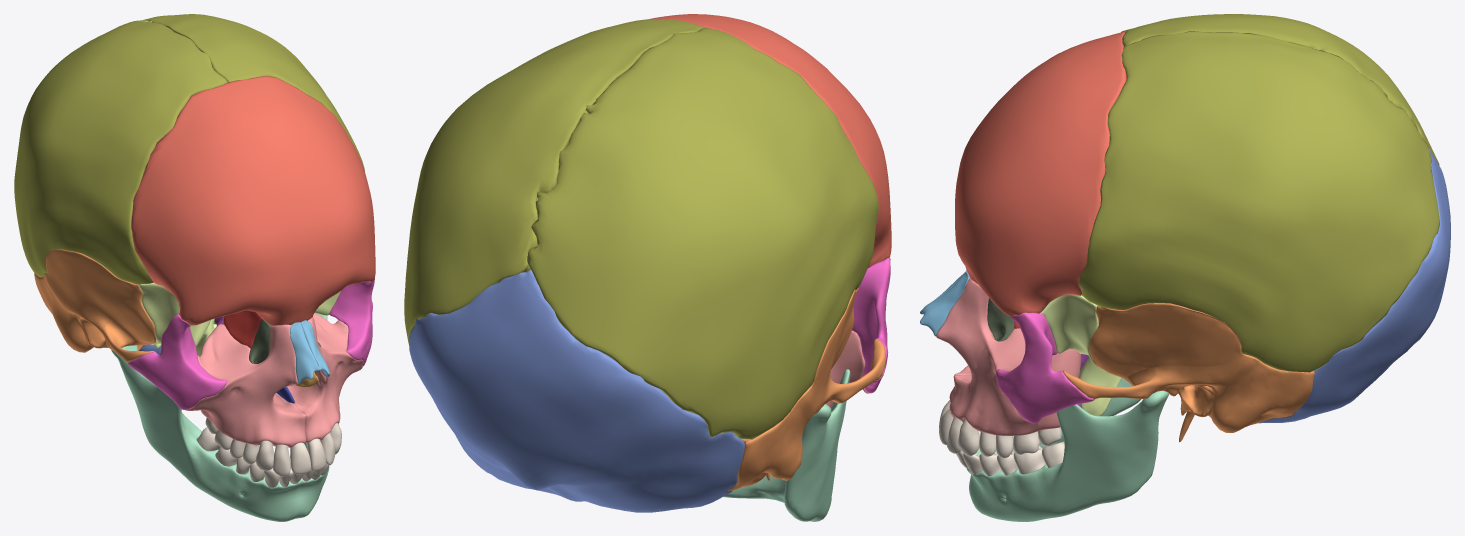
Rendered from overview-colored-skull.glb.
3 views of the same model, side by side, from view 1: azimuth 30°, elevation 25°; view 2: azimuth 150°, elevation 25°; view 3: azimuth 270°, elevation 25° (orthographic). The views are drawn at different scales.
Visible parts, largest first — view 1: Frontal bone, Parietal bone.r, Maxilla bone.r, Mandible bone, Temporal bone.r, Parietal bone.l, Maxilla bone.l, Zygomatic bone.r, Zygomatic bone.l, Sphenoid bone, Nasal bone.r, Ethmoid Bone (+6 smaller); view 2: Parietal bone.r, Occipital bone, Parietal bone.l, Frontal bone, Temporal bone.r, Mandible bone, Zygomatic bone.r, Maxilla bone.r; view 3: Parietal bone.l, Frontal bone, Temporal bone.l, Mandible bone, Occipital bone, Maxilla bone.l, Parietal bone.r, Zygomatic bone.l, Sphenoid bone, Nasal bone.l, Lacrimal bone.l.
Part boxes in pixels (left/top/right/bottom): Frontal bone: left=131, top=76, right=375, bottom=325; Parietal bone.r: left=14, top=20, right=227, bottom=284; Maxilla bone.r: left=185, top=324, right=306, bottom=447; Mandible bone: left=111, top=313, right=329, bottom=521; Temporal bone.r: left=34, top=249, right=156, bottom=362; Parietal bone.l: left=143, top=14, right=364, bottom=171; Maxilla bone.l: left=287, top=313, right=363, bottom=442; Zygomatic bone.r: left=128, top=313, right=227, bottom=409; Zygomatic bone.l: left=329, top=278, right=374, bottom=366; Sphenoid bone: left=139, top=282, right=340, bottom=356; Nasal bone.r: left=290, top=322, right=319, bottom=383; Ethmoid Bone: left=223, top=310, right=262, bottom=348; Parietal bone.r: left=527, top=28, right=878, bottom=439; Occipital bone: left=408, top=269, right=744, bottom=512; Parietal bone.l: left=404, top=19, right=703, bottom=343; Frontal bone: left=649, top=14, right=891, bottom=267; Temporal bone.r: left=728, top=287, right=886, bottom=491; Mandible bone: left=723, top=369, right=850, bottom=521; Zygomatic bone.r: left=852, top=258, right=890, bottom=393; Maxilla bone.r: left=826, top=330, right=868, bottom=409; Parietal bone.l: left=1078, top=31, right=1439, bottom=372; Frontal bone: left=955, top=31, right=1126, bottom=317; Temporal bone.l: left=1063, top=303, right=1314, bottom=442; Mandible bone: left=967, top=378, right=1169, bottom=521; Occipital bone: left=1258, top=147, right=1450, bottom=423; Maxilla bone.l: left=936, top=278, right=1081, bottom=435; Parietal bone.r: left=1121, top=14, right=1439, bottom=165; Zygomatic bone.l: left=996, top=312, right=1094, bottom=423; Sphenoid bone: left=1039, top=294, right=1121, bottom=415; Nasal bone.l: left=920, top=272, right=969, bottom=336; Lacrimal bone.l: left=987, top=298, right=1014, bottom=341.
Size of the model in its own units: 0.1485 by 0.2013 by 0.2038.
